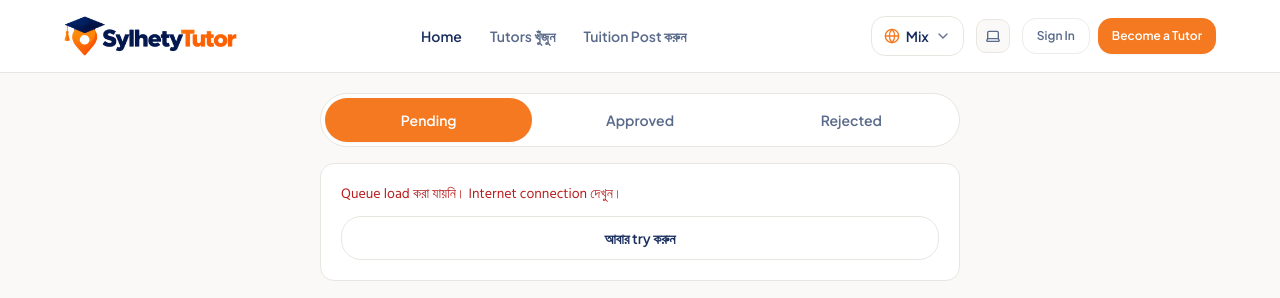
Test: VerificationQueue › shows an error with retry, then the list
This screenshot has width=1280, height=298.
Click the button "আবার try করুন" at (640, 238), box [341, 216, 939, 260]
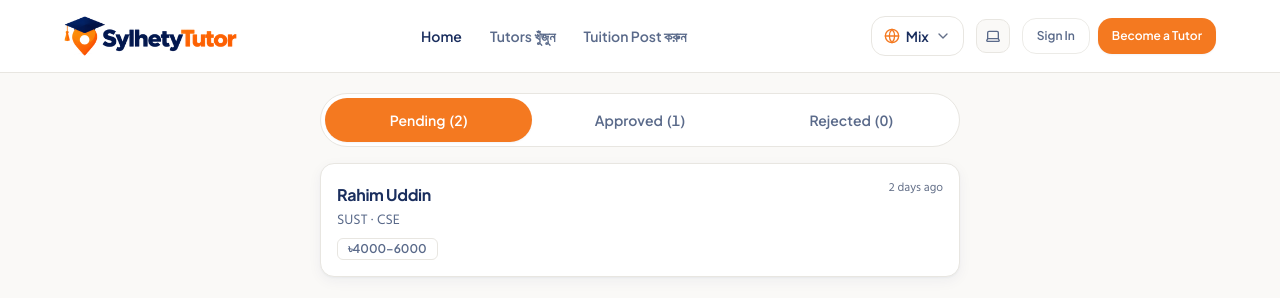
Expected: the heading "Rahim Uddin" is shown, [337, 180, 431, 210]
